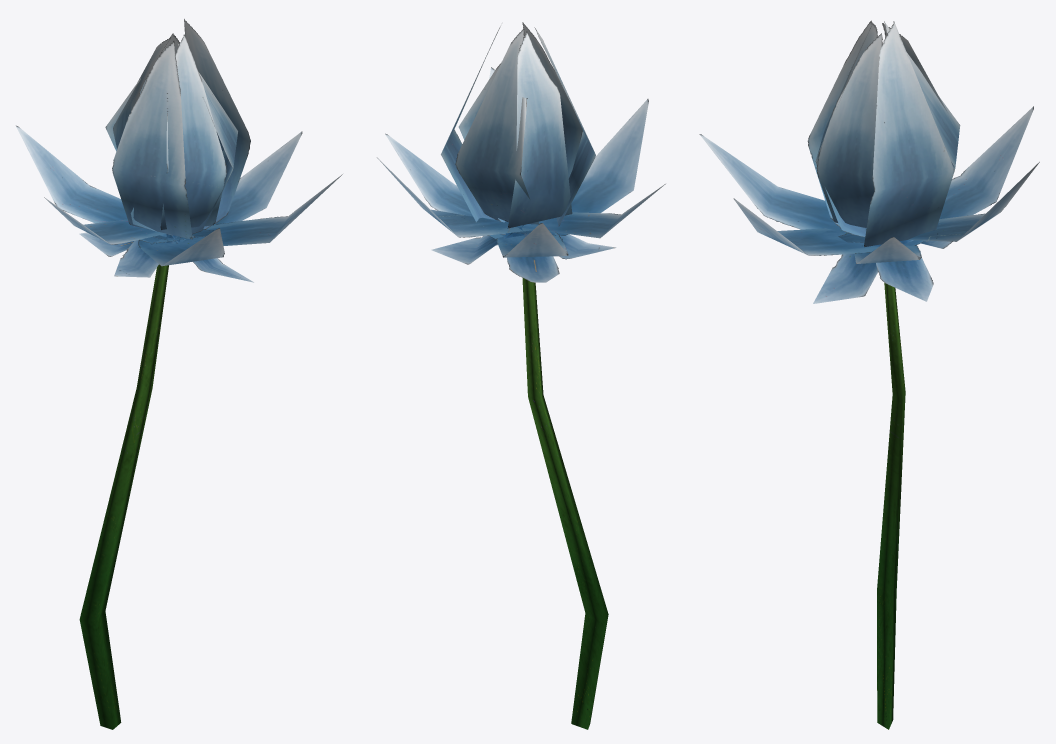
Rendered from flowers4.glb.
3 renders of one model, left to right at view 1: azimuth 30°, elevation 25°; view 2: azimuth 150°, elevation 25°; view 3: azimuth 270°, elevation 25°, orthographic. The views are drawn at different scales.
Visible parts, largest first — view 1: flowers.004; view 2: flowers.004; view 3: flowers.004.
Boxes of the visible parts, <box> form: flowers.004: <box>16,19,342,729</box>; flowers.004: <box>377,22,665,729</box>; flowers.004: <box>699,20,1039,729</box>.
Bounding box in the file's own units: 0.3338 × 0.81 × 0.337.
Materials: 1 (1 with a texture image).
